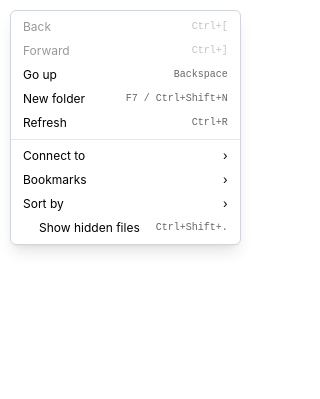
Test case: ContextMenu › opens a submenu on request
Expected: the text "Date modified" is not shown
Click the text "Sort by".
click(43, 204)  # box top-left (23, 196), bottom-right (64, 212)
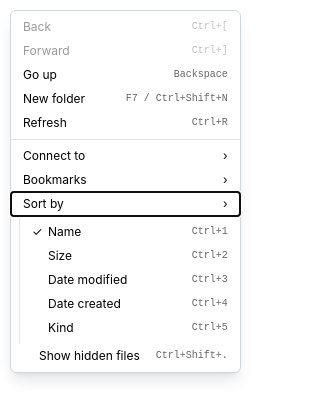
Result: the text "Date modified" is shown at top-left (48, 272), bottom-right (127, 287)
